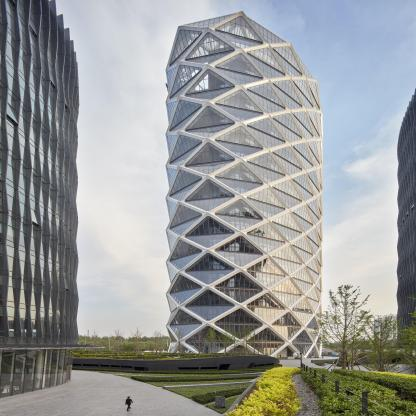Building Outline: (165, 11, 323, 360)
Dont: (311, 284, 416, 375), (72, 326, 280, 371), (292, 352, 302, 367), (279, 355, 295, 359)
Facade: (178, 11, 242, 361)
Floor: (186, 26, 234, 59), (186, 64, 234, 95), (186, 102, 234, 130), (186, 138, 234, 165), (186, 175, 234, 200), (186, 212, 234, 235), (186, 250, 234, 271), (186, 51, 234, 72), (186, 124, 234, 144), (186, 88, 234, 108), (186, 287, 234, 306), (186, 343, 234, 361), (186, 197, 234, 215), (186, 161, 234, 179), (186, 270, 234, 287), (186, 234, 234, 251), (186, 324, 234, 341), (186, 307, 234, 323)
Floor Slab: (186, 62, 234, 74), (186, 24, 234, 36), (186, 49, 234, 61), (186, 100, 234, 110), (186, 86, 234, 96), (186, 136, 234, 145), (186, 122, 234, 131), (186, 173, 234, 181), (186, 159, 234, 167), (186, 195, 234, 202), (186, 211, 234, 217), (186, 248, 234, 253), (186, 232, 234, 237), (186, 285, 234, 289), (186, 268, 234, 272), (186, 305, 234, 307), (186, 341, 234, 343), (186, 323, 234, 325)
Glass Wall: (184, 32, 235, 64), (184, 69, 235, 101), (184, 106, 235, 138), (184, 142, 235, 174), (184, 216, 235, 248), (184, 289, 235, 321), (184, 179, 235, 211), (184, 253, 235, 284), (185, 326, 235, 357), (184, 13, 235, 27)
Top Floor: (186, 13, 234, 34)
